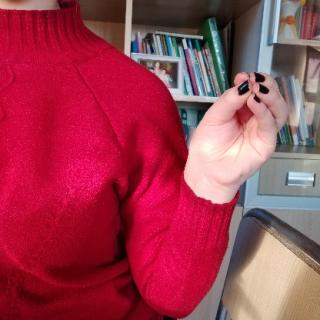HA: (181, 65, 293, 191)
